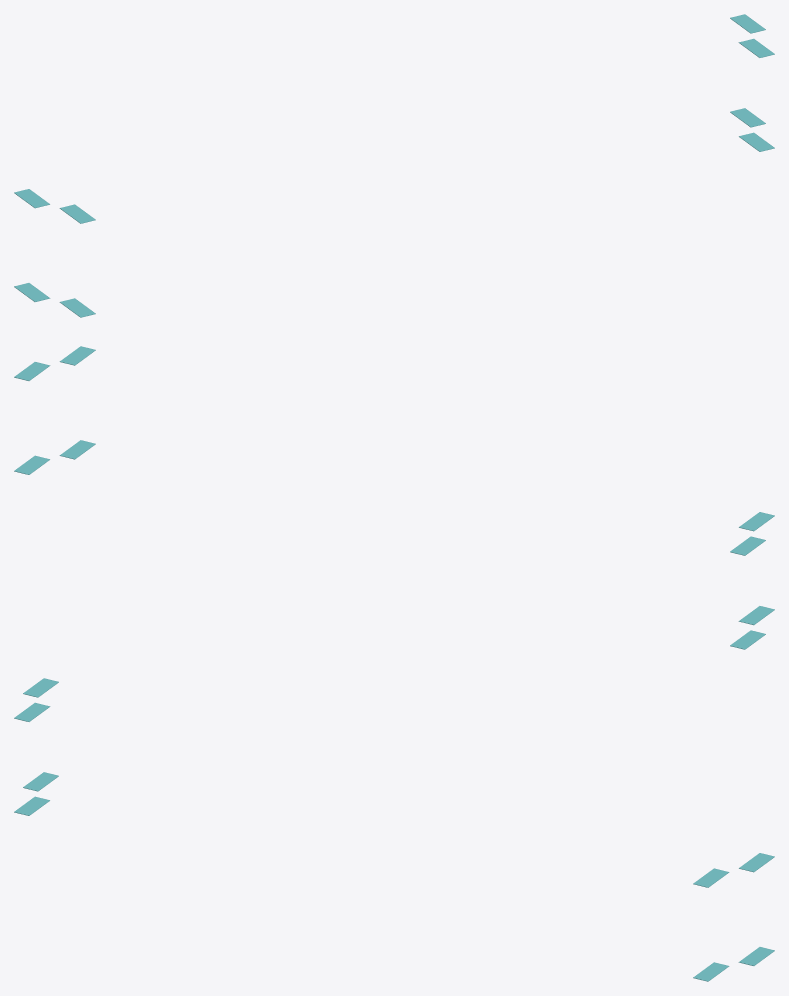
The model's file is SM_ObeliskGirls_Interior_Glass.fbx.
3 views of the same model, one above another, from view 1: azimuth 30°, elevation 25°; view 2: azimuth 150°, elevation 25°; view 3: azimuth 330°, elevation 25° (orthographic).
Visible parts, largest first — view 1: SM_ObeliskGirls_Interior_Glass; view 2: SM_ObeliskGirls_Interior_Glass; view 3: SM_ObeliskGirls_Interior_Glass.
Part boxes in pixels (<box>): SM_ObeliskGirls_Interior_Glass: <box>14,14,774,317</box>; SM_ObeliskGirls_Interior_Glass: <box>14,346,774,649</box>; SM_ObeliskGirls_Interior_Glass: <box>14,678,774,981</box>.
Bounding box in the file's own units: 31.78 × 3.92 × 3.64.
